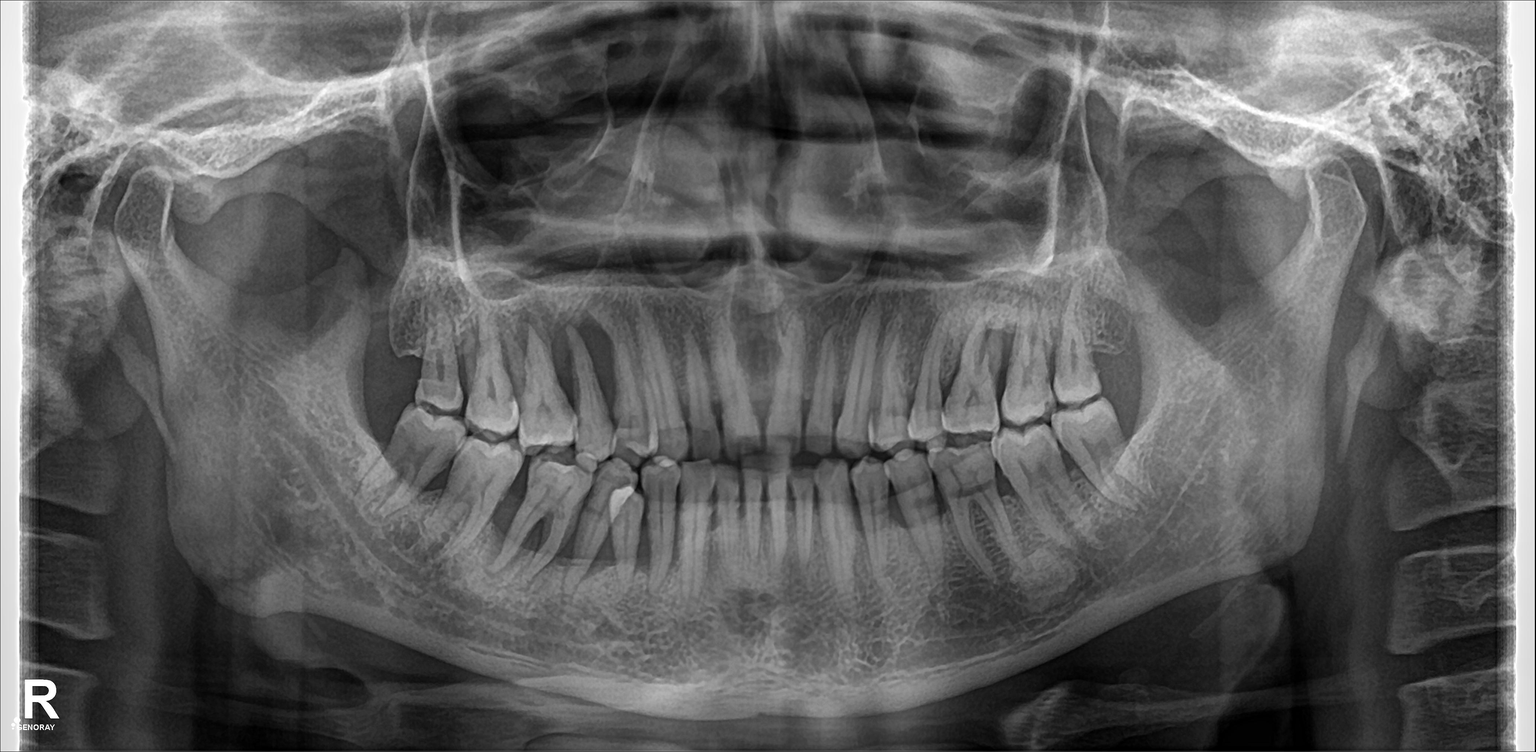Missing Tooth: (355, 287, 420, 364), (343, 374, 396, 450), (1084, 285, 1129, 369)
